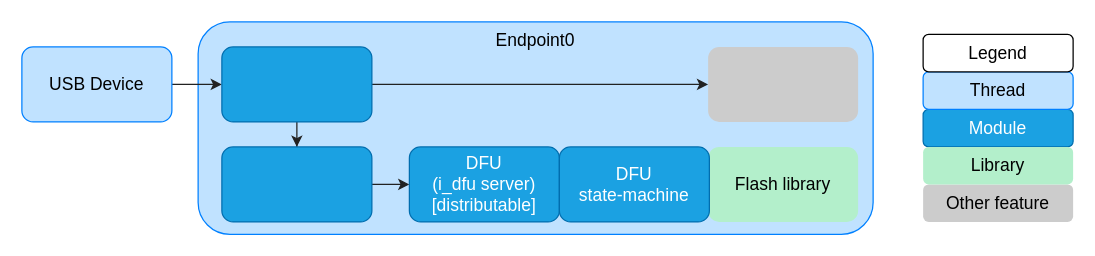
Some shapes in this 1095 by 256 pixel diagram are drawn without their labels. The box of each missing label's shape, as (x1, y1, x2, y2) in pixels:
DFU class API (i_dfu client): (221, 146, 372, 222)
Endpoint0 module: (221, 46, 372, 122)
Endpoints/interfaces: (708, 46, 858, 121)
